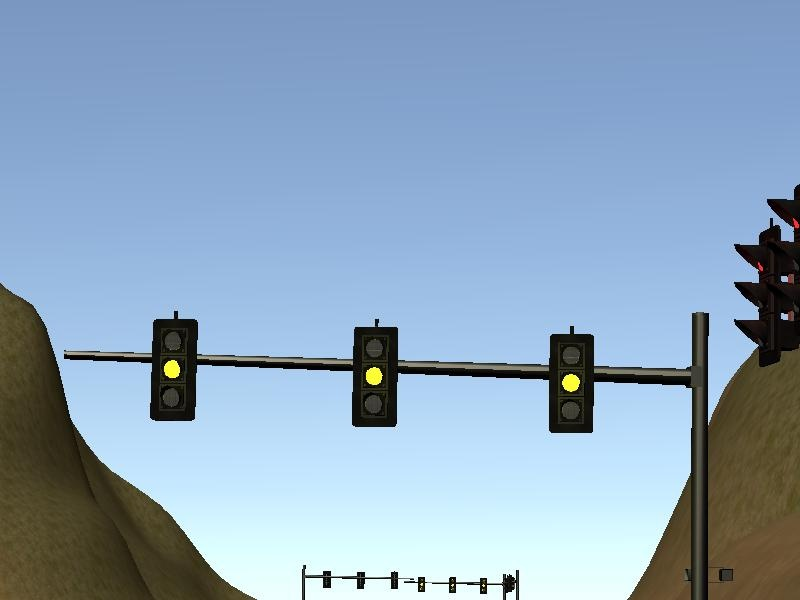YELLOW: (349, 324, 400, 429), (149, 315, 200, 420), (547, 332, 592, 433)
